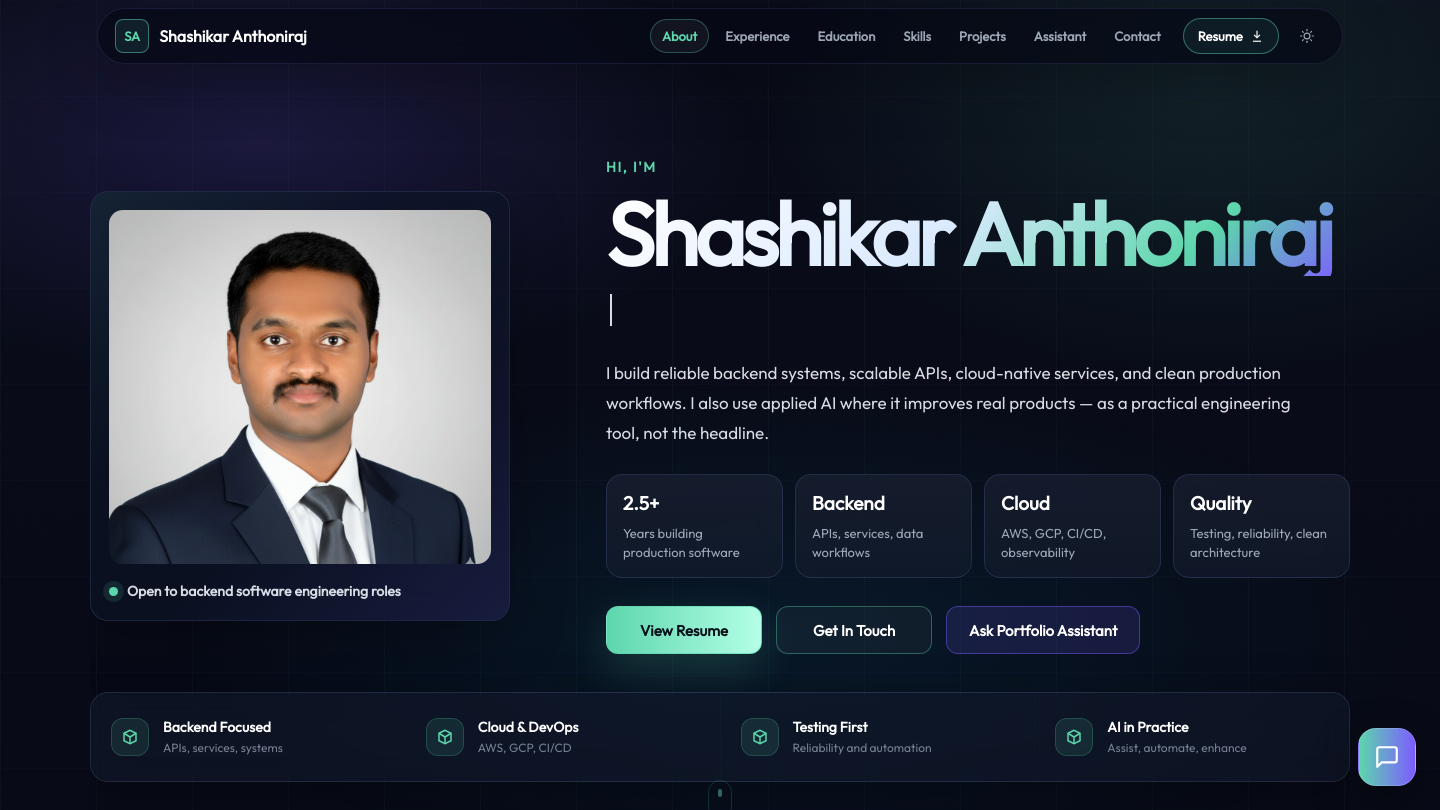
enables voice conversation mode when browser speech APIs exist
The width and height of the screenshot is (1440, 810).
Click the button named "open ai chat assistant": click(1387, 757) [1358,728,1416,786]
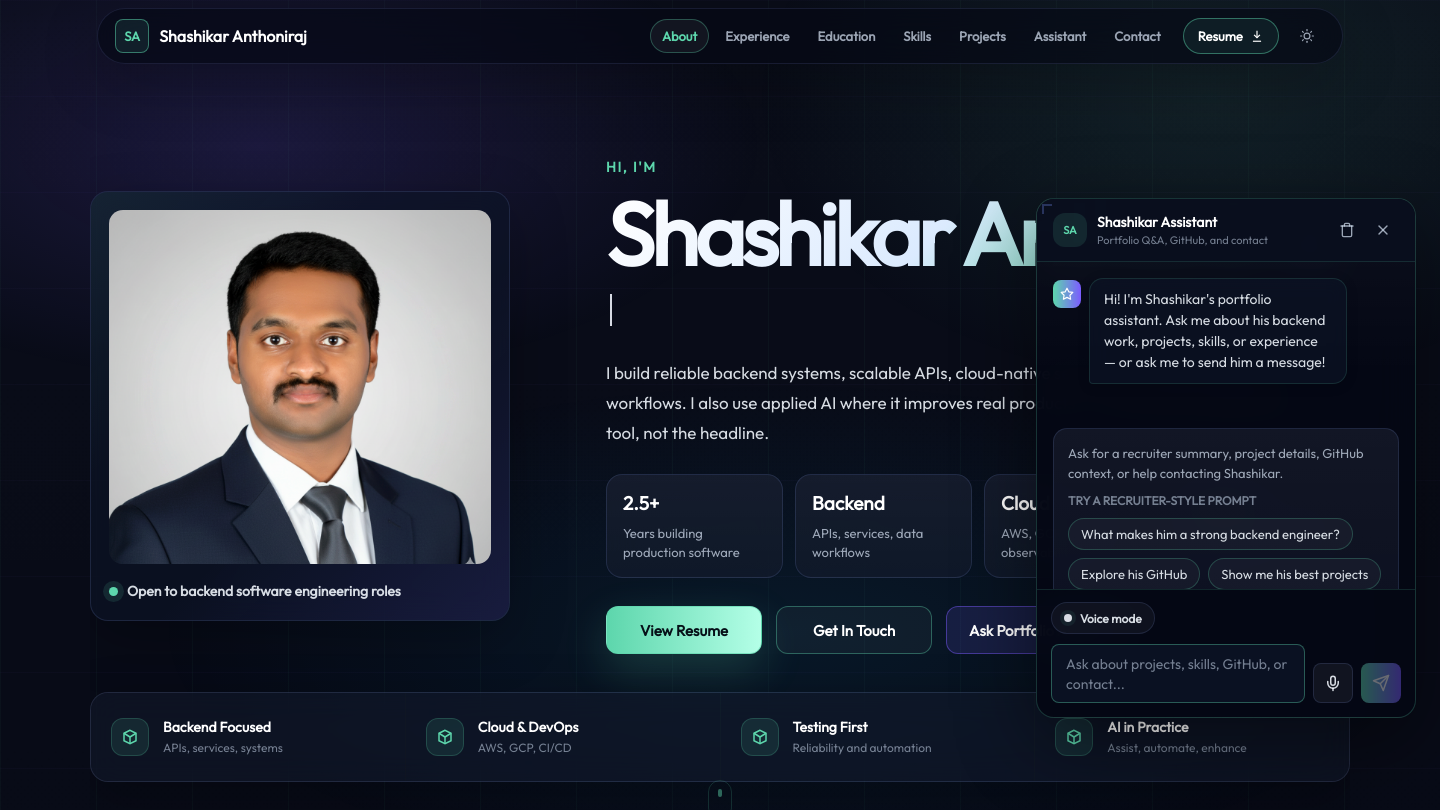
Click the button with aria-label "turn on voice conversation mode": click(1103, 618) [1051,602,1155,634]
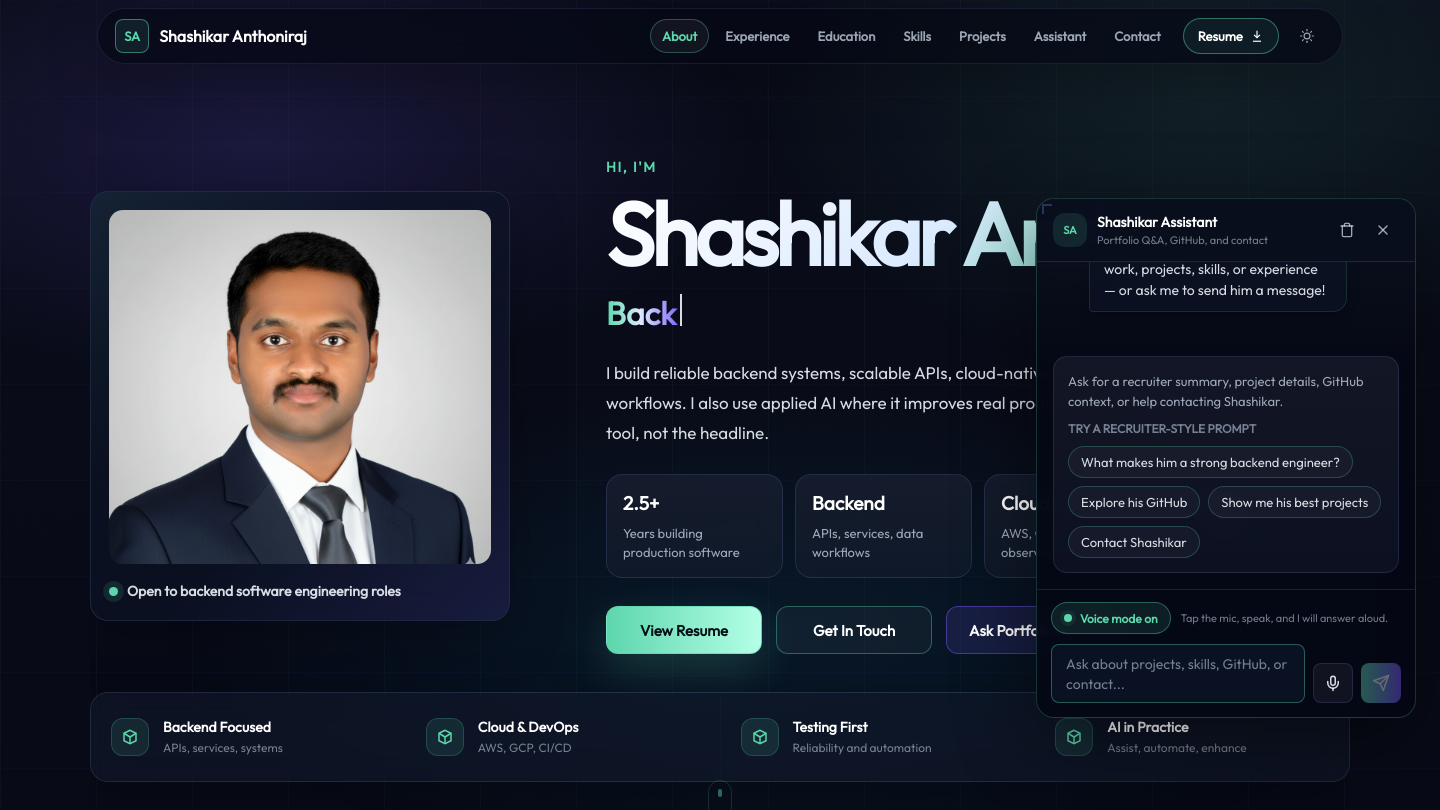
Check: the text "Tap the mic, speak, and I will answer aloud." is shown, box [1180,611,1388,625]
